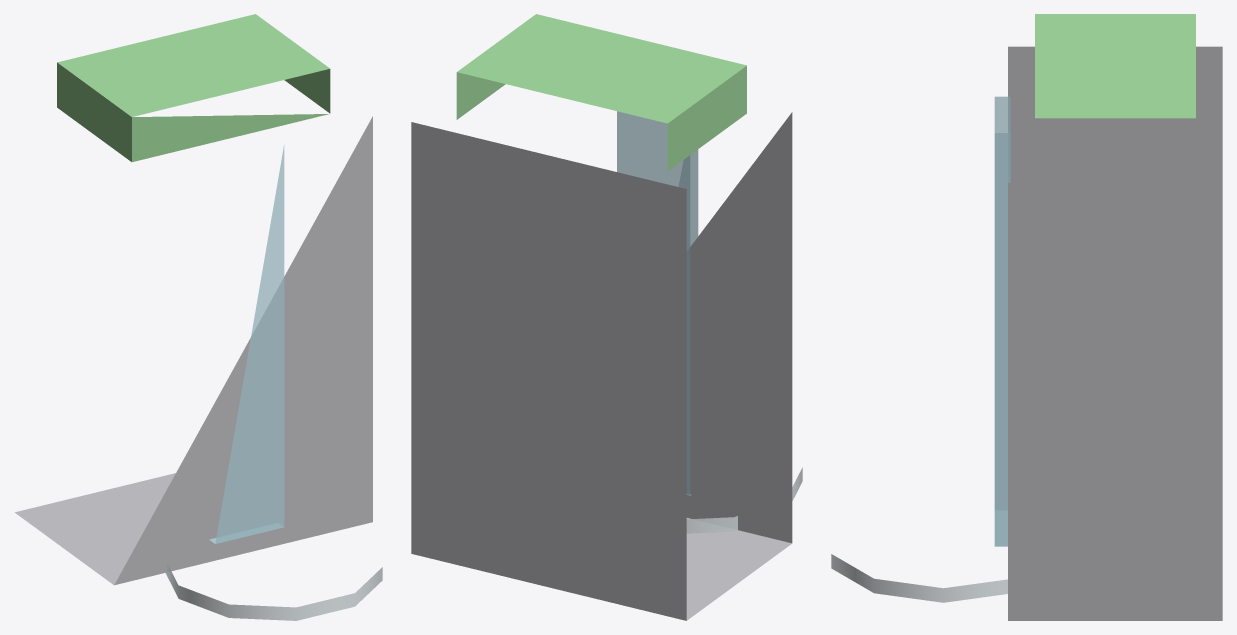
The model's file is ASTX_TERRAIN_WATERFALL.glb.
3 views of the same model, side by side, from view 1: azimuth 30°, elevation 25°; view 2: azimuth 150°, elevation 25°; view 3: azimuth 270°, elevation 25° (orthographic). The views are drawn at different scales.
Parts seen in each view (by area): view 1: ASTX_TERRAIN_WATERFALL_rock, ASTX_TERRAIN_WATERFALL_lip, ASTX_TERRAIN_WATERFALL_ribbon, ASTX_TERRAIN_WATERFALL_pool; view 2: ASTX_TERRAIN_WATERFALL_rock, ASTX_TERRAIN_WATERFALL_lip, ASTX_TERRAIN_WATERFALL_ribbon, ASTX_TERRAIN_WATERFALL_pool; view 3: ASTX_TERRAIN_WATERFALL_rock, ASTX_TERRAIN_WATERFALL_lip, ASTX_TERRAIN_WATERFALL_ribbon, ASTX_TERRAIN_WATERFALL_pool.
Part boxes in pixels (bbox=[...]): ASTX_TERRAIN_WATERFALL_rock: bbox=[15, 116, 372, 585]; ASTX_TERRAIN_WATERFALL_lip: bbox=[57, 14, 330, 162]; ASTX_TERRAIN_WATERFALL_ribbon: bbox=[209, 145, 284, 543]; ASTX_TERRAIN_WATERFALL_pool: bbox=[165, 559, 382, 620]; ASTX_TERRAIN_WATERFALL_rock: bbox=[411, 112, 792, 620]; ASTX_TERRAIN_WATERFALL_lip: bbox=[456, 14, 746, 171]; ASTX_TERRAIN_WATERFALL_ribbon: bbox=[617, 111, 698, 495]; ASTX_TERRAIN_WATERFALL_pool: bbox=[686, 467, 802, 533]; ASTX_TERRAIN_WATERFALL_rock: bbox=[1008, 46, 1222, 620]; ASTX_TERRAIN_WATERFALL_lip: bbox=[1035, 14, 1195, 118]; ASTX_TERRAIN_WATERFALL_ribbon: bbox=[994, 96, 1010, 546]; ASTX_TERRAIN_WATERFALL_pool: bbox=[831, 554, 1007, 602].
Bounding box in the file's own units: 6 × 10 × 7.29.
